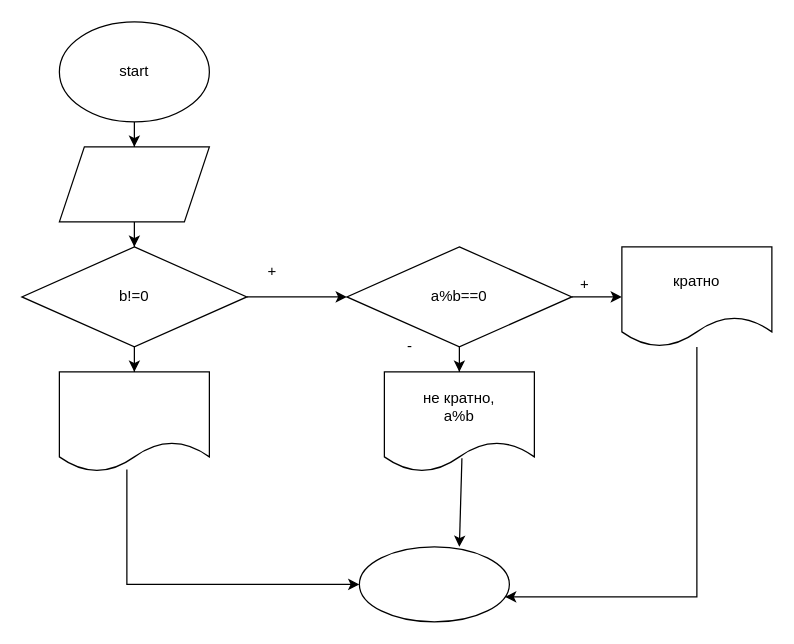
The diagram is 794 pixels wide and 644 high, and some of its shapes have lost their labels. The shapes that lost their labels are listed below. From the top down, each one's centre as x and y in pixels, then its label:
the point at 133,184: a,b
the point at 133,421: ошибка
the point at 433,584: end
